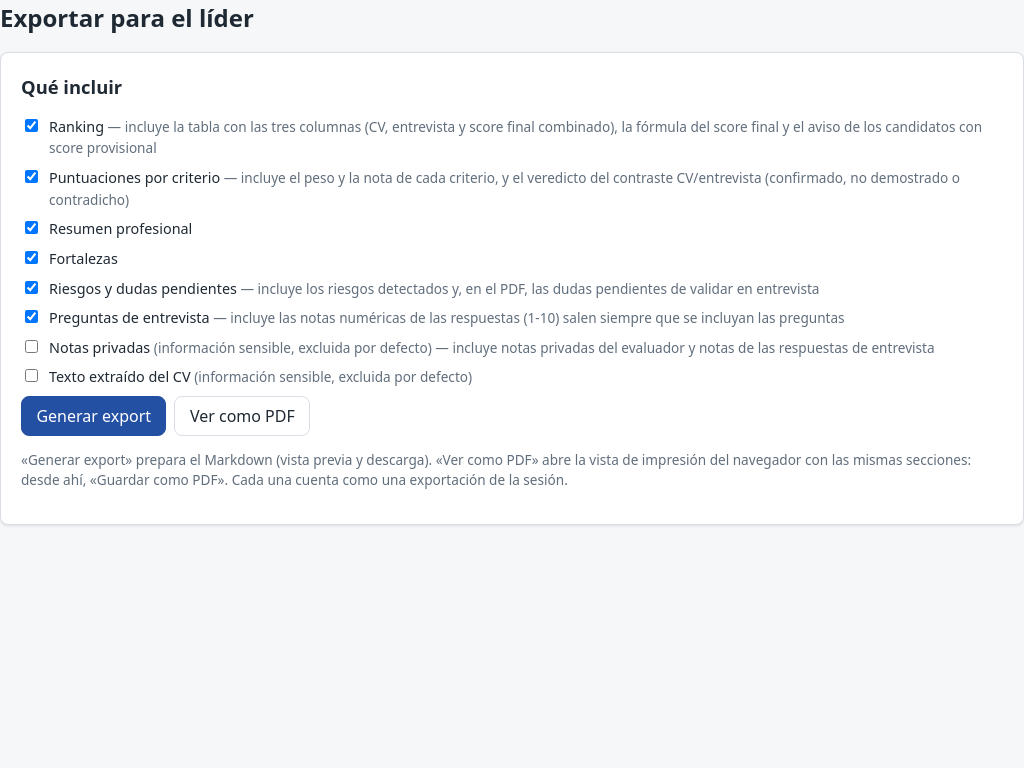
Scenario: ExportPage › «Ver como PDF» pide format:'structured' y navega a la vista de impresión
This screenshot has width=1024, height=768.
Click the button "Ver como PDF" at [242, 416], box [174,396,310,436]
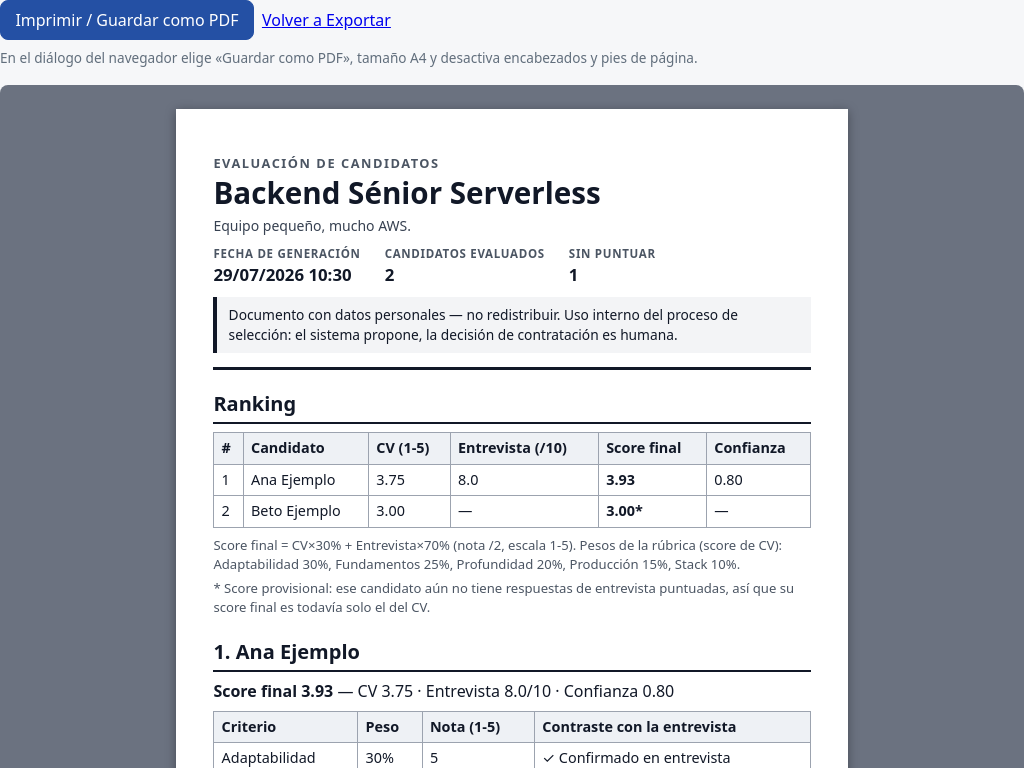
Expected: the button "Imprimir / Guardar como PDF" is shown, [0,0,254,40]
Expected: the heading "Backend Sénior Serverless" is shown, [213,172,601,213]
